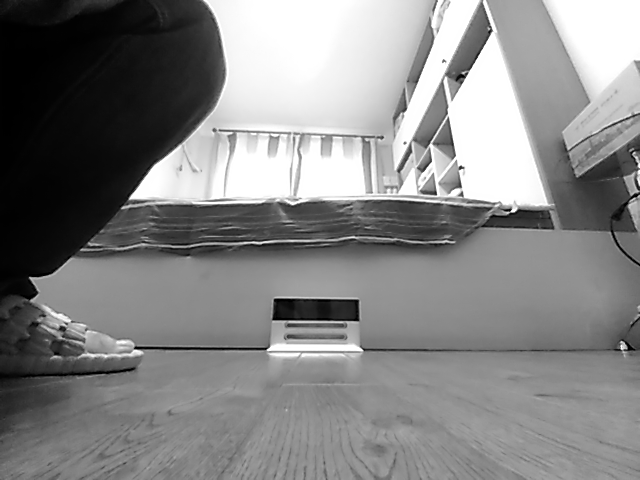Ruby: (265, 294, 365, 356)
shoe: (1, 300, 144, 382)
